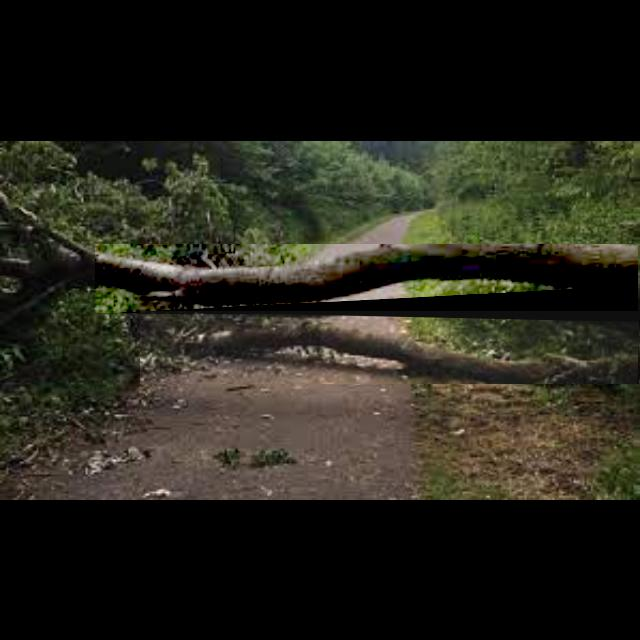Fallen Tree: (95, 244, 639, 314), (140, 311, 640, 385)
